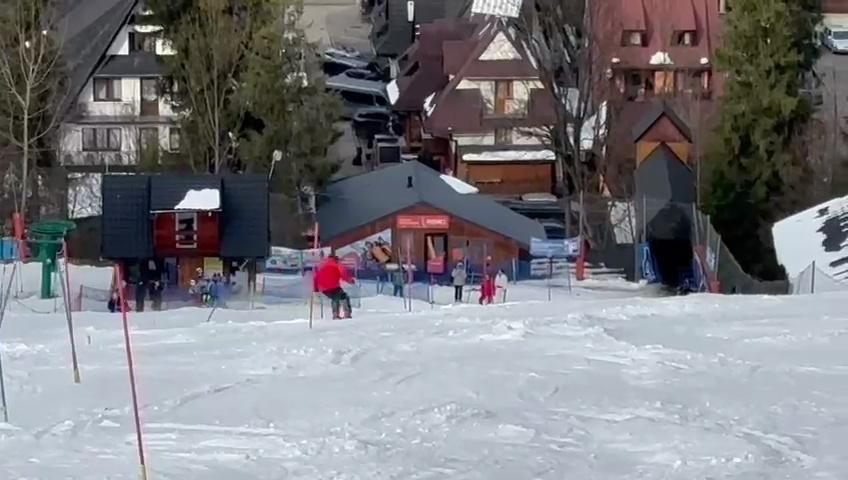gate: (99, 253, 168, 477), (48, 240, 87, 381), (301, 231, 325, 335)
